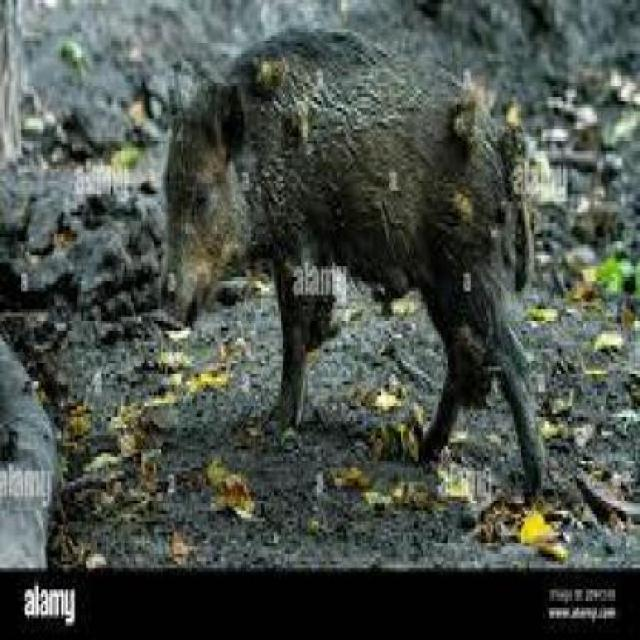wildboar: (152, 22, 548, 510)
